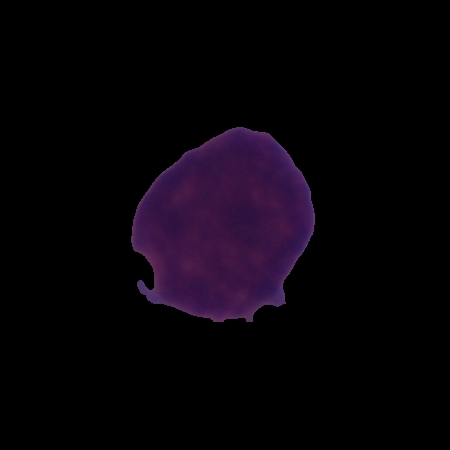ALL: (126, 123, 318, 326)
